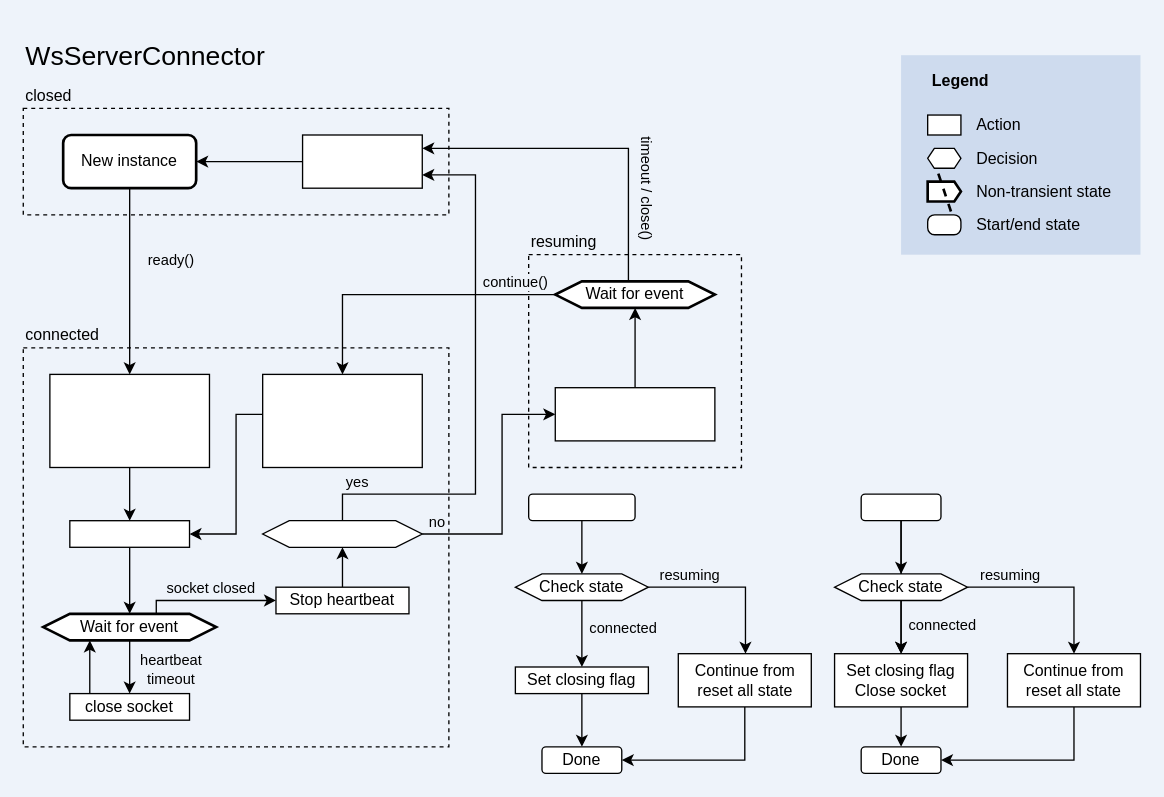
The diagram is 1164 pixels wide and 797 high, and some of its shapes have lost their labels. The centre of each missing label's shape, as x and y in pixels:
"close()" goes at point 900,507.
"Closing flag set?" goes at point 341,533.
"Reset all state Emit close" goes at point 361,161.
"Send continue Sate state connected Attach handlers Emit resume" goes at point 341,420.
"Send ready Set state connected Attach handlers Emit connect" goes at point 129,420.
"Set state resuming Emit drop" goes at point 634,413.
"setClosing()" goes at point 581,507.
"Start heartbeat" goes at point 129,533.
